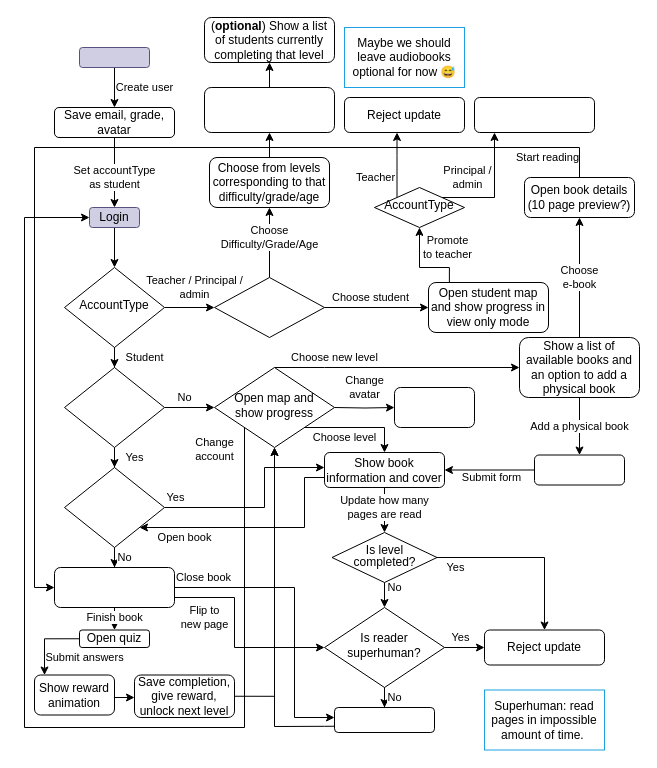
Image size: 657x768. Some labels were removed from this diagram. Here are the shapes that lost their labels. From the top down, the centre of each, then its label:
the point at 114,57: Sign up
the point at 269,109: Edit book requirements or Quiz questions for chosen level
the point at 534,114: Update accountType
the point at 269,307: Open teacher UI
the point at 114,407: Continue reading?
the point at 434,407: Update user profile
the point at 579,469: Show a form for adding a book
the point at 114,507: Is book physical?
the point at 114,587: Open book to the latest page viewed
the point at 384,719: Update progress
